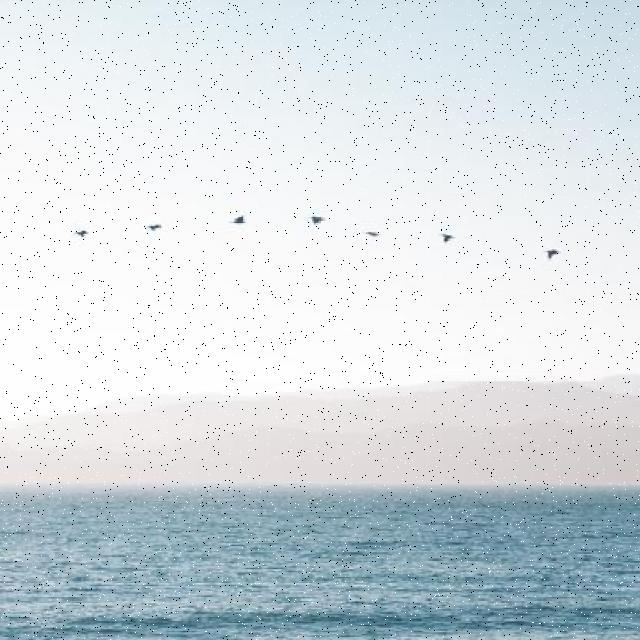bird: (542, 249, 561, 260), (308, 217, 326, 226), (437, 234, 455, 243), (228, 215, 247, 223), (144, 224, 164, 230), (72, 231, 90, 237), (362, 232, 380, 237)
